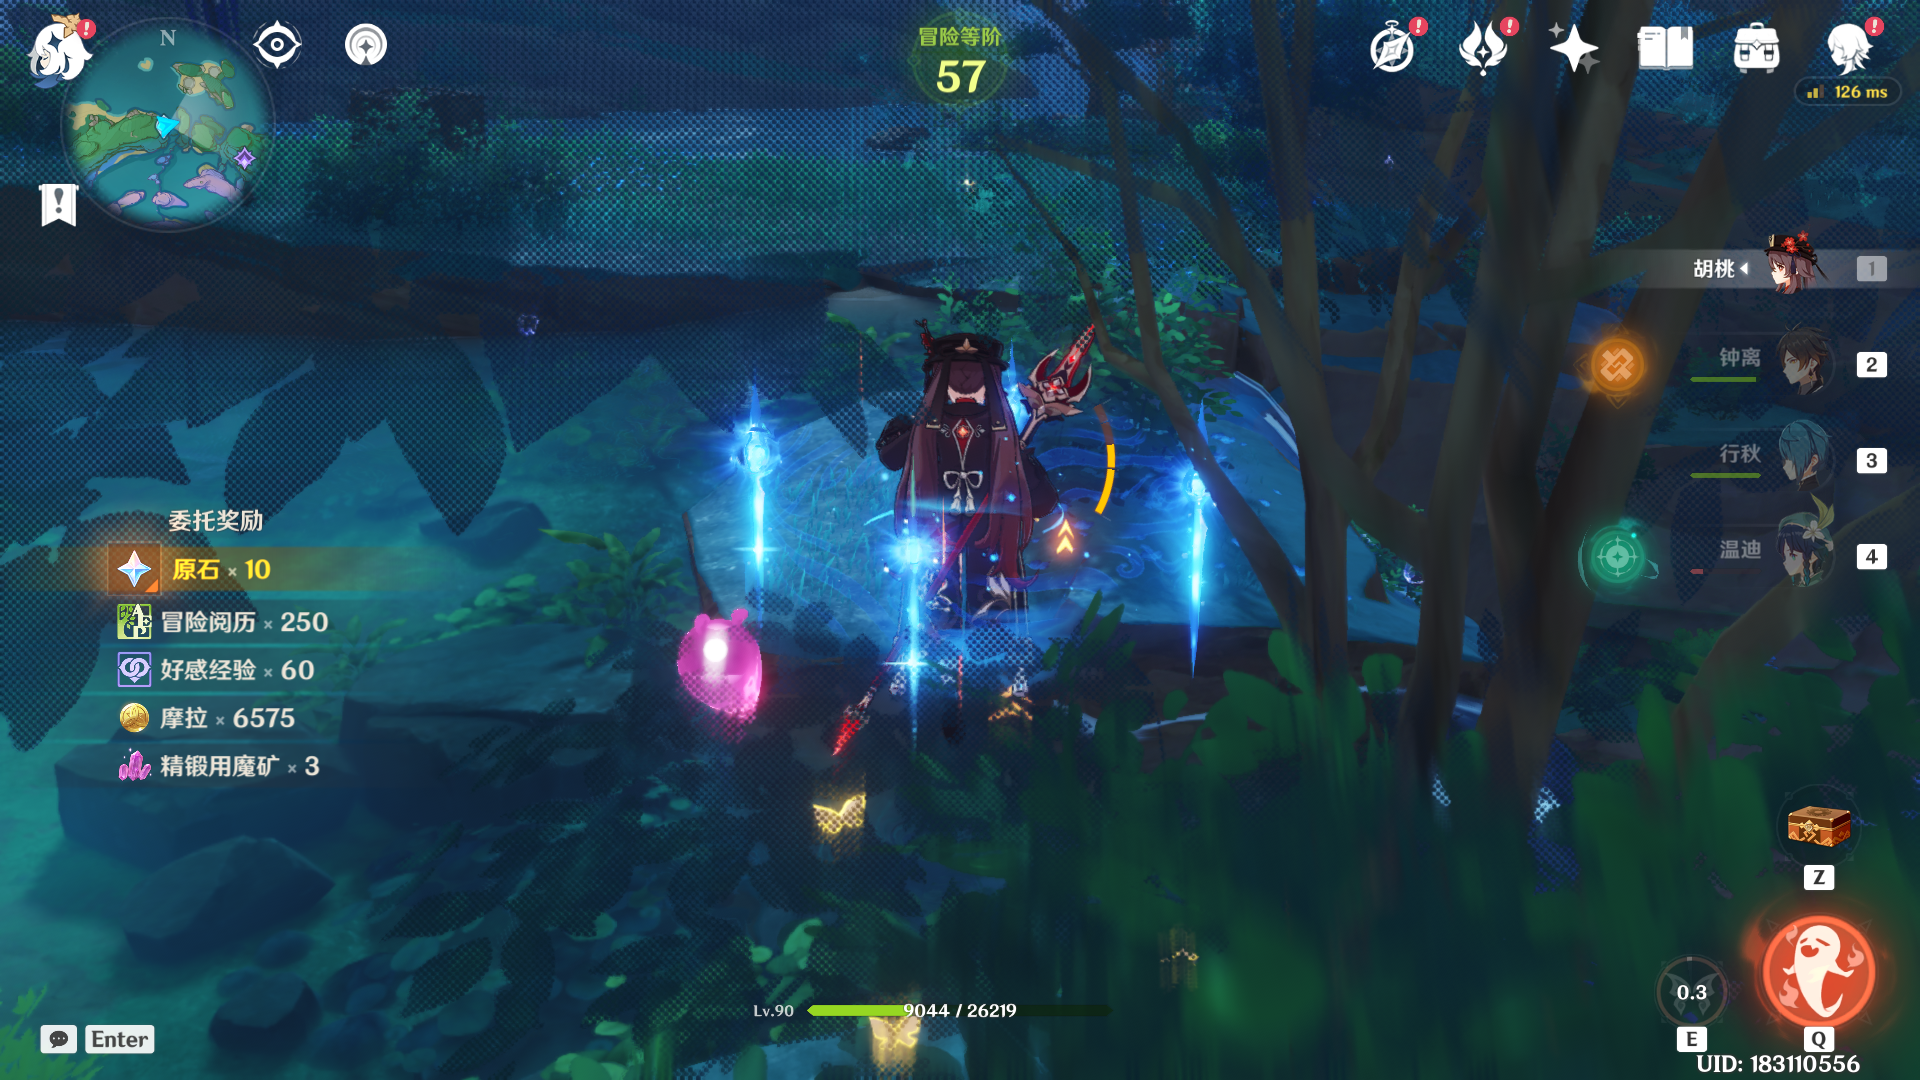character: (858, 327, 1112, 663)
